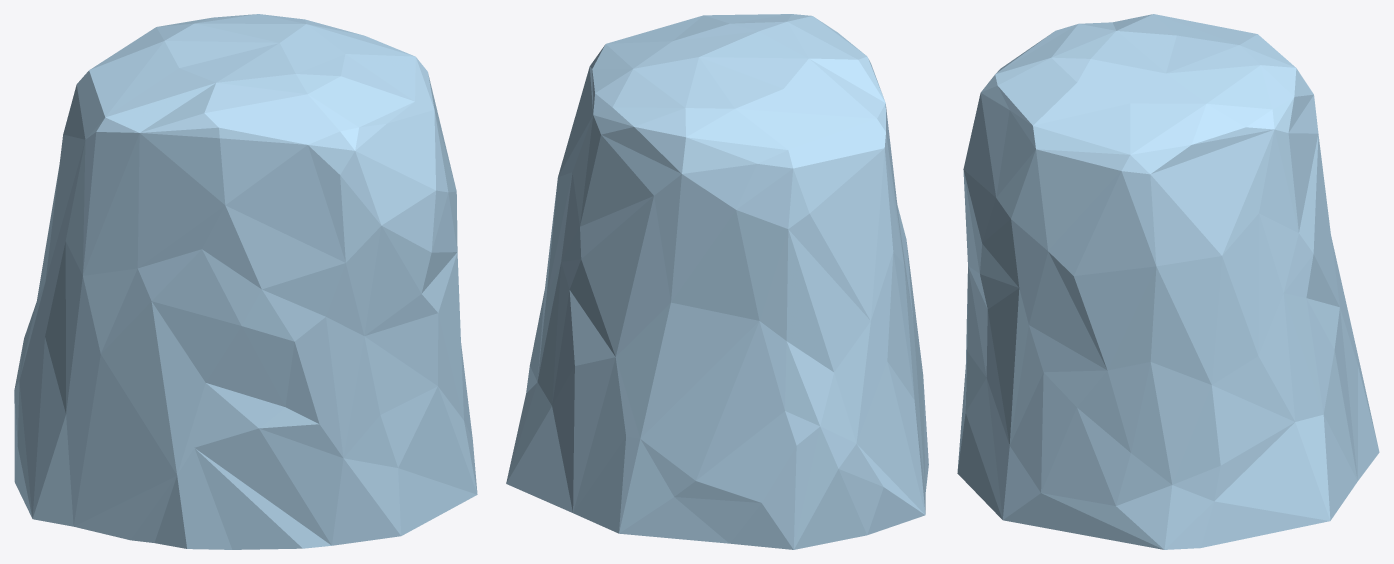
The model's file is PROP_Ice_FloorM02.FBX.
3 views of the same model, side by side, from view 1: azimuth 30°, elevation 25°; view 2: azimuth 150°, elevation 25°; view 3: azimuth 270°, elevation 25° (orthographic). The views are drawn at different scales.
Visible parts, largest first — view 1: PROP_Ice_FloorM02; view 2: PROP_Ice_FloorM02; view 3: PROP_Ice_FloorM02.
Part boxes in pixels (x1,y1,x2,y2): PROP_Ice_FloorM02: [14, 14, 477, 549]; PROP_Ice_FloorM02: [506, 14, 928, 549]; PROP_Ice_FloorM02: [957, 14, 1379, 549].
Bounding box in the file's own units: 467 × 455 × 432.
1 material, 1 textured.
